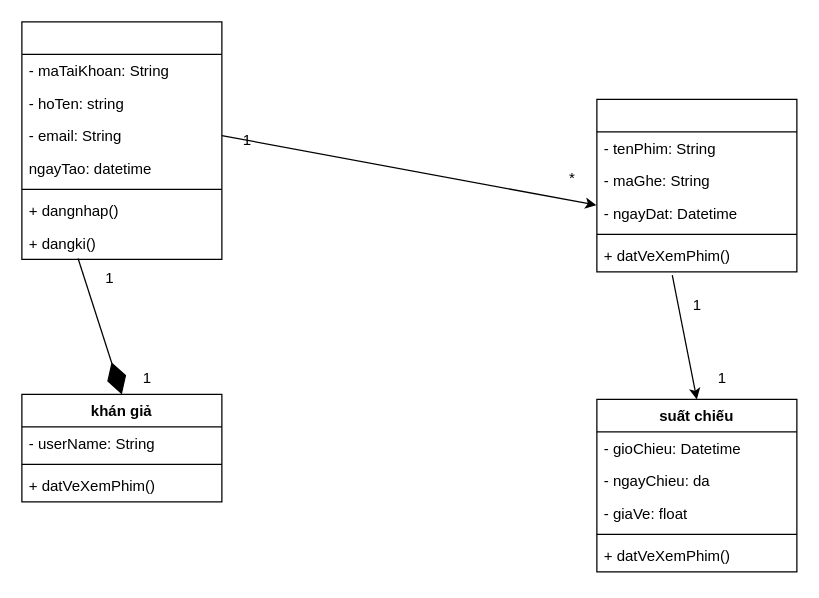
This 819x598 diagram has some shape labels left out. Each missing label, with the box of its shape:
tài khoản: (21, 21, 222, 259)
đơn đặt vé: (596, 98, 797, 272)
